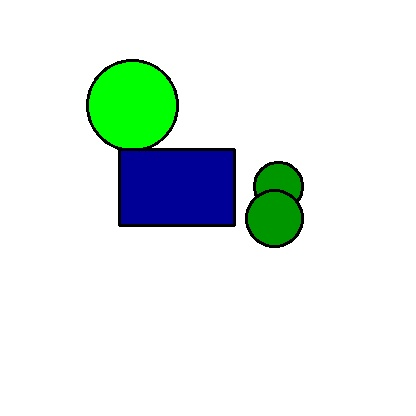circle: (87, 60, 178, 151), (234, 190, 314, 247), (246, 162, 310, 210)
rectangle: (119, 149, 234, 225)
